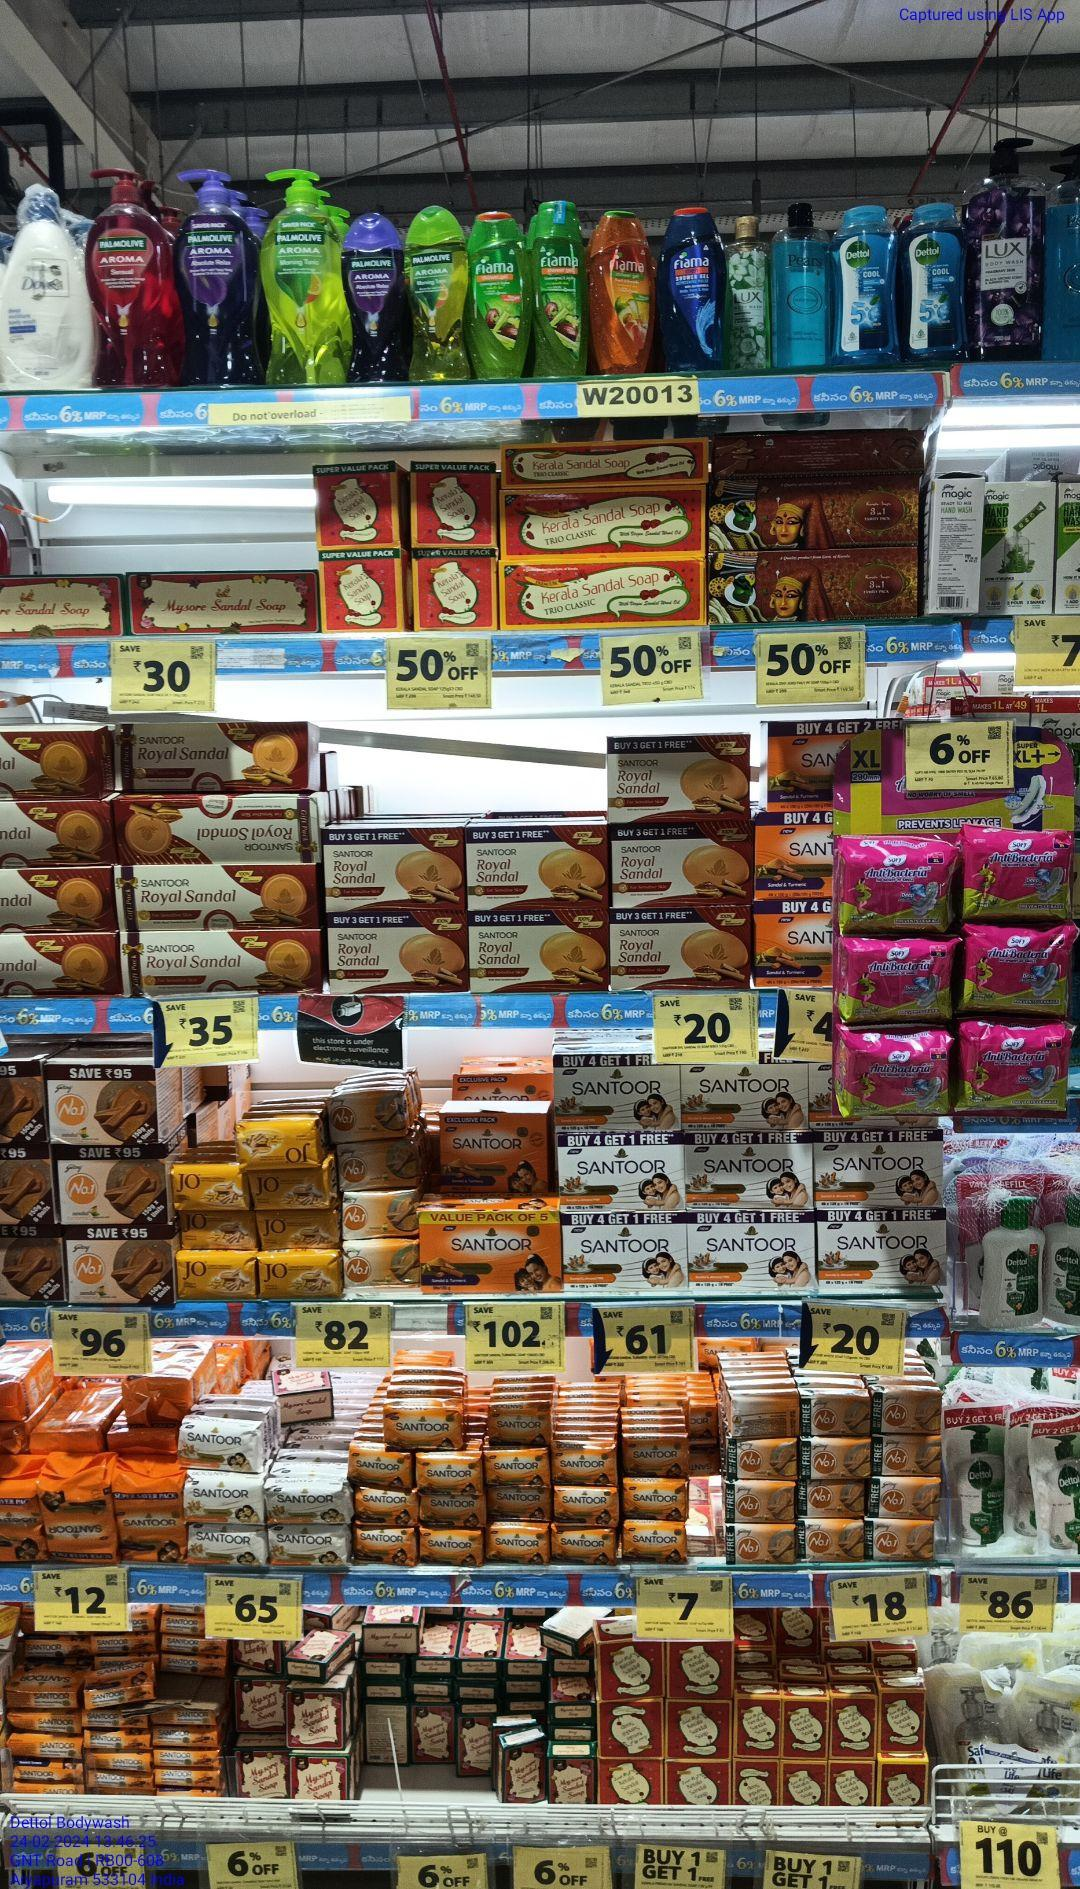Dettol_Bodywash_Cool: (837, 204, 898, 363), (909, 204, 968, 359)
Fiama_Shower_Gel_Lemongrass_and_Jojoba_250ML: (471, 210, 526, 383)
Fiama_Shower_Gel_Peach_and_Avocado_250ML: (593, 210, 654, 374)
Lux_Body_Wash_Skin_Detox_Freesia_Scent_and_Alove_Vera_245ML: (726, 215, 770, 370)
Palmolive_Aroma_Morning_Tonic_Shower_Gel_250ML: (410, 206, 467, 383)
Palmolive_Aroma_Relax_250ML: (340, 214, 406, 381)
Pears_Pure_Glycerin_and_Mint_Extracts_Body_Wash_250ML: (774, 201, 831, 367)
